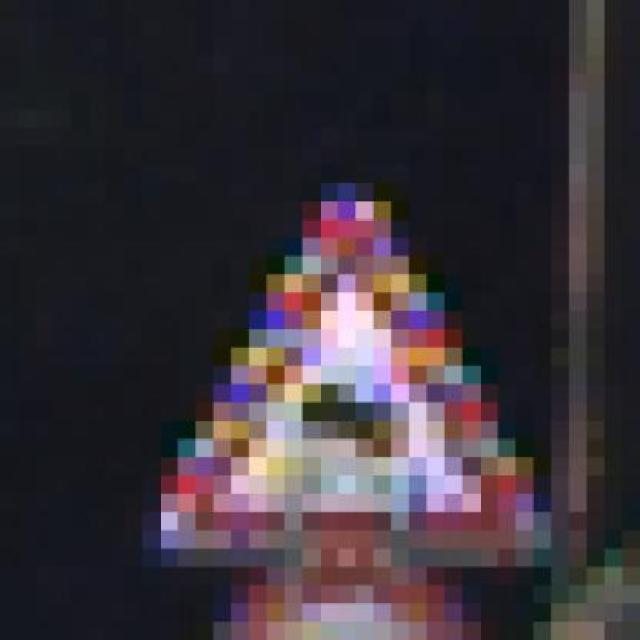Slippery Road Ahead: (143, 164, 552, 585)
